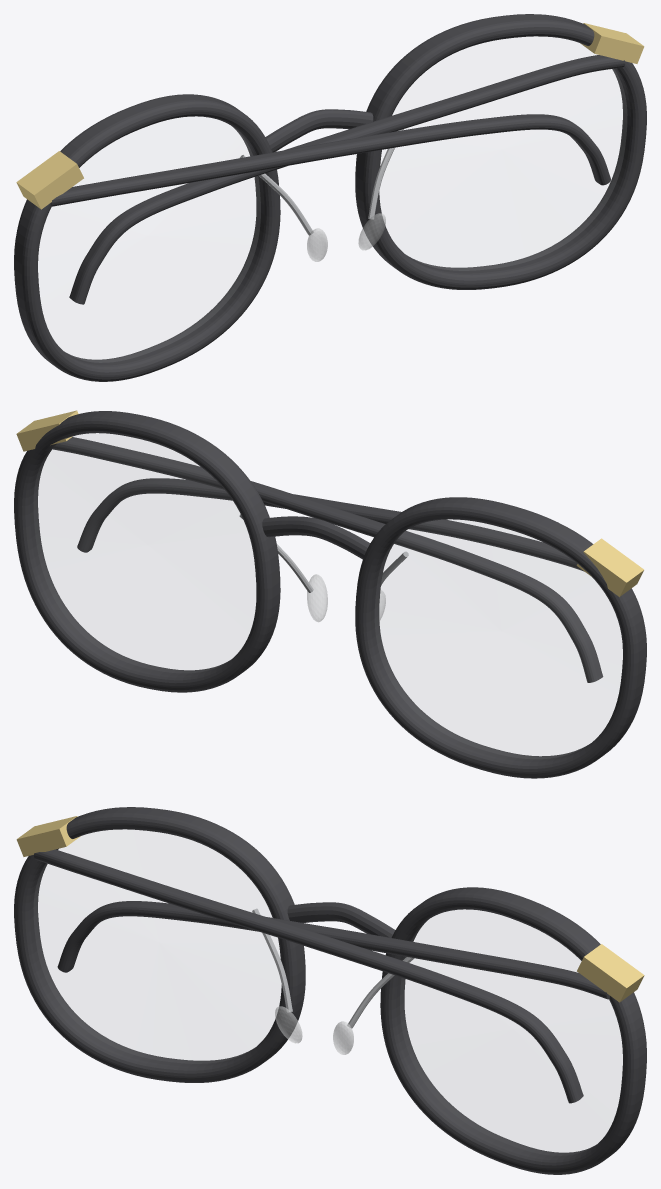
File: glasses.glb
The picture shows the model from 3 angles, top to bottom: view 1: azimuth 30°, elevation 25°; view 2: azimuth 150°, elevation 25°; view 3: azimuth 330°, elevation 25°; orthographic projection.
Visible parts, largest first — view 1: rim_R, rim_L, temple_L, temple_R, gold_L, bridge, gold_R, nosepad_R, nosepad_L, nosearm_L; view 2: rim_L, rim_R, temple_R, temple_L, bridge, gold_L, gold_R, nosepad_R; view 3: rim_L, rim_R, temple_L, temple_R, gold_R, bridge, gold_L, nosepad_L, nosearm_L, nosepad_R.
Part boxes in pixels (x1,y1,x2,y2): rim_R: (355,14,646,289); rim_L: (14,94,280,381); temple_L: (50,114,610,206); temple_R: (69,55,624,304); gold_L: (16,151,83,209); bridge: (265,109,373,152); gold_R: (580,23,644,63); nosepad_R: (358,213,385,250); nosepad_L: (307,228,327,261); nosearm_L: (240,155,313,235); rim_L: (355,497,646,778); rim_R: (14,411,280,692); temple_R: (52,437,603,682); temple_L: (77,478,584,571); bridge: (262,516,370,559); gold_L: (576,538,643,596); gold_R: (16,410,78,451); nosepad_R: (307,574,327,622); rim_L: (14,807,305,1082); rim_R: (380,887,646,1174); temple_L: (34,849,583,1103); temple_R: (57,901,609,999); gold_R: (577,944,644,1002); bridge: (287,902,395,937); gold_L: (16,816,80,856); nosepad_L: (275,1006,302,1043); nosearm_L: (252,908,292,1012); nosepad_R: (333,1021,353,1054).
Bounding box in the file's own units: 12.51 × 5.06 × 1.45.
